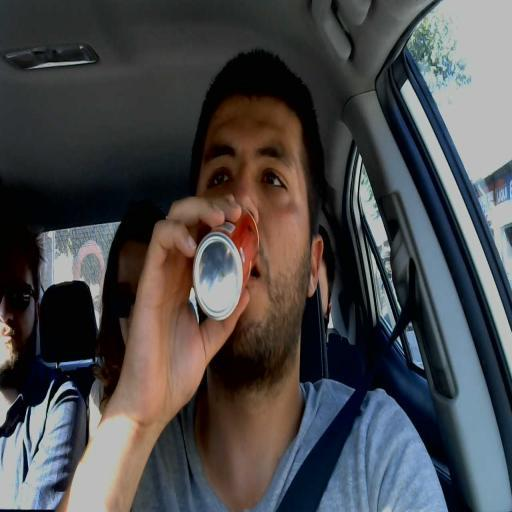Drinking: (163, 98, 324, 370)
